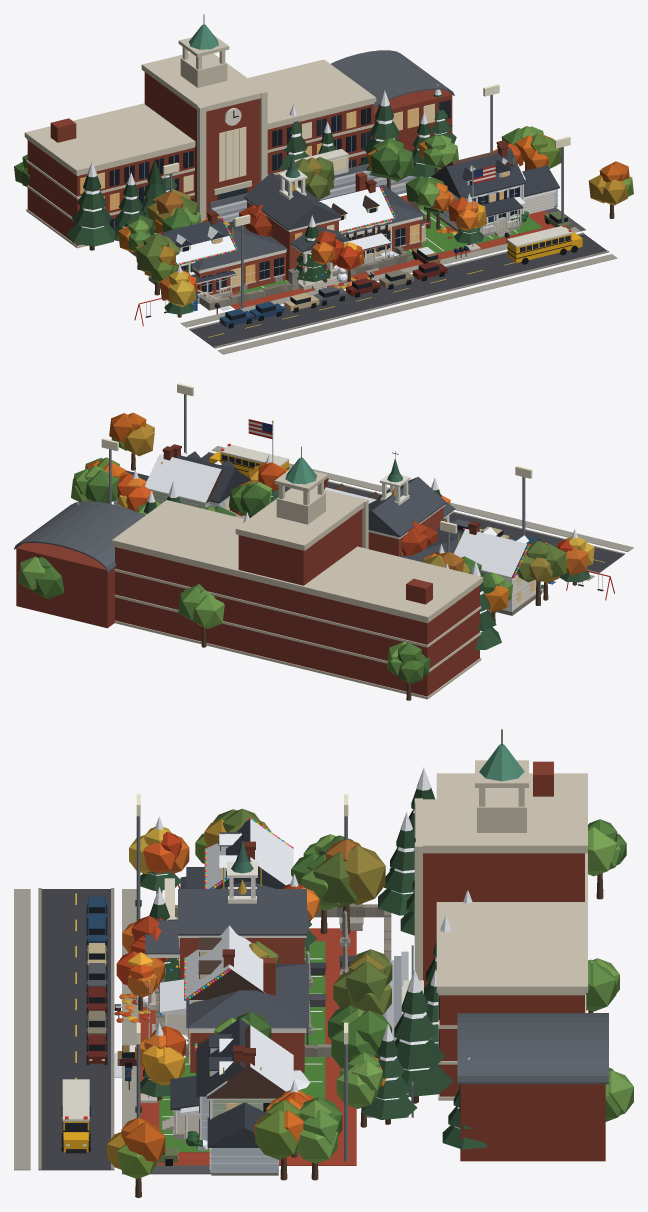
File: suburb.glb
3 views of the same model, one above another, from view 1: azimuth 30°, elevation 25°; view 2: azimuth 150°, elevation 25°; view 3: azimuth 270°, elevation 25° (orthographic). The views are drawn at different scales.
Parts seen in each view (by area): view 1: highschool, field, street4, school, gangulis, schoolyard, pines_x, cemetery, home, home_xmas, nbrL, nbrL_x (+2 smaller); view 2: highschool, schoolyard, school, gangulis, field, street4, nbrL_x, nbrR_x, cemetery, nbrL, nbrR, pines_x (+1 smaller); view 3: highschool, street4, field, school, schoolyard, gangulis, cemetery, pines_x, home, home_xmas, nbrR, nbrL (+2 smaller).
Boxes of the visible parts, x1,y1,x2,y2 form: highschool: [24, 14, 454, 248]; field: [144, 84, 633, 328]; street4: [180, 227, 617, 354]; school: [190, 148, 425, 296]; gangulis: [405, 126, 585, 258]; schoolyard: [14, 135, 582, 326]; pines_x: [66, 83, 456, 250]; cemetery: [129, 157, 410, 310]; home: [239, 179, 458, 289]; home_xmas: [296, 186, 452, 282]; nbrL: [148, 211, 235, 317]; nbrL_x: [159, 210, 237, 314]; highschool: [14, 446, 482, 699]; schoolyard: [18, 419, 614, 700]; school: [368, 451, 490, 574]; gangulis: [71, 444, 272, 518]; field: [85, 383, 567, 600]; street4: [201, 446, 633, 580]; nbrL_x: [438, 527, 590, 592]; nbrR_x: [123, 452, 278, 507]; cemetery: [421, 540, 566, 613]; nbrL: [423, 521, 594, 615]; nbrR: [117, 446, 287, 511]; pines_x: [77, 481, 501, 649]; highschool: [414, 729, 608, 1161]; street4: [14, 888, 138, 1170]; field: [86, 794, 423, 1197]; school: [135, 830, 308, 1072]; schoolyard: [61, 819, 633, 1153]; gangulis: [122, 1012, 342, 1180]; cemetery: [155, 808, 414, 1057]; pines_x: [361, 767, 487, 1149]; home: [114, 916, 265, 1077]; home_xmas: [114, 887, 310, 1089]; nbrR: [135, 1025, 313, 1157]; nbrL: [129, 819, 319, 921].
Bounding box in the file's own units: 78.26 × 29 × 59.72.
